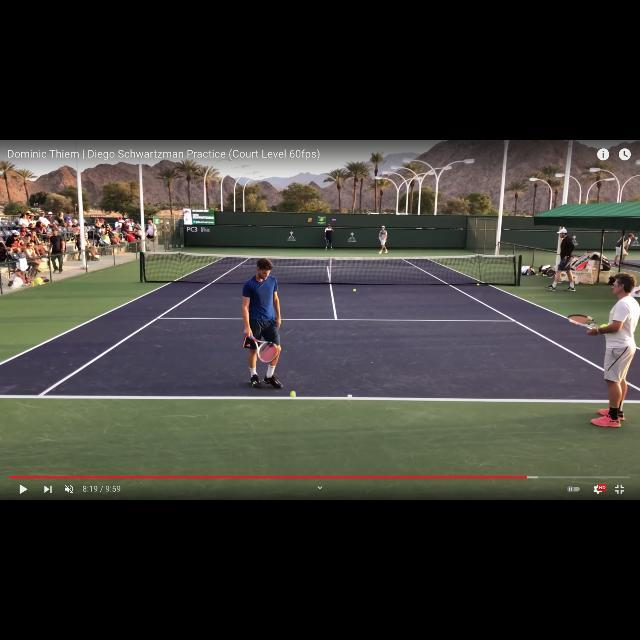tennis ball: (290, 390, 296, 396), (352, 288, 356, 292)
